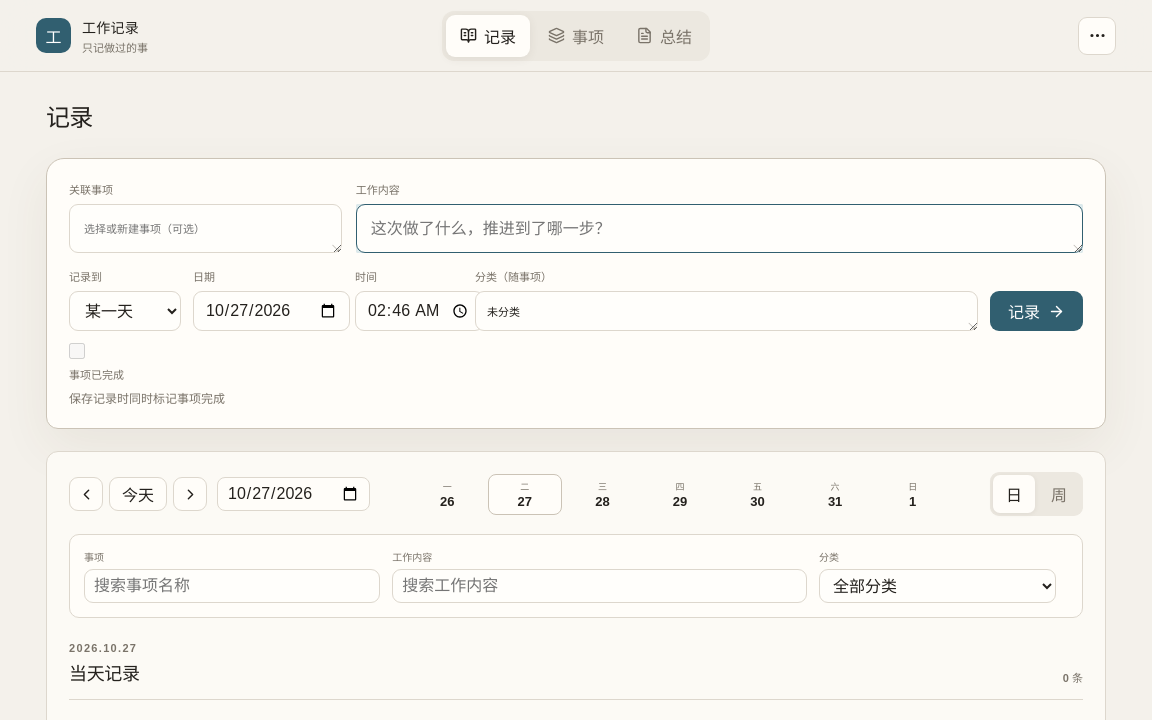
Test: application shell › opens category management from the existing overflow menu
What coordinates should you click on to do the following:
click the button named "更多操作"
I would click on:
 (1097, 36)
Its box is [1078,16,1116,54].
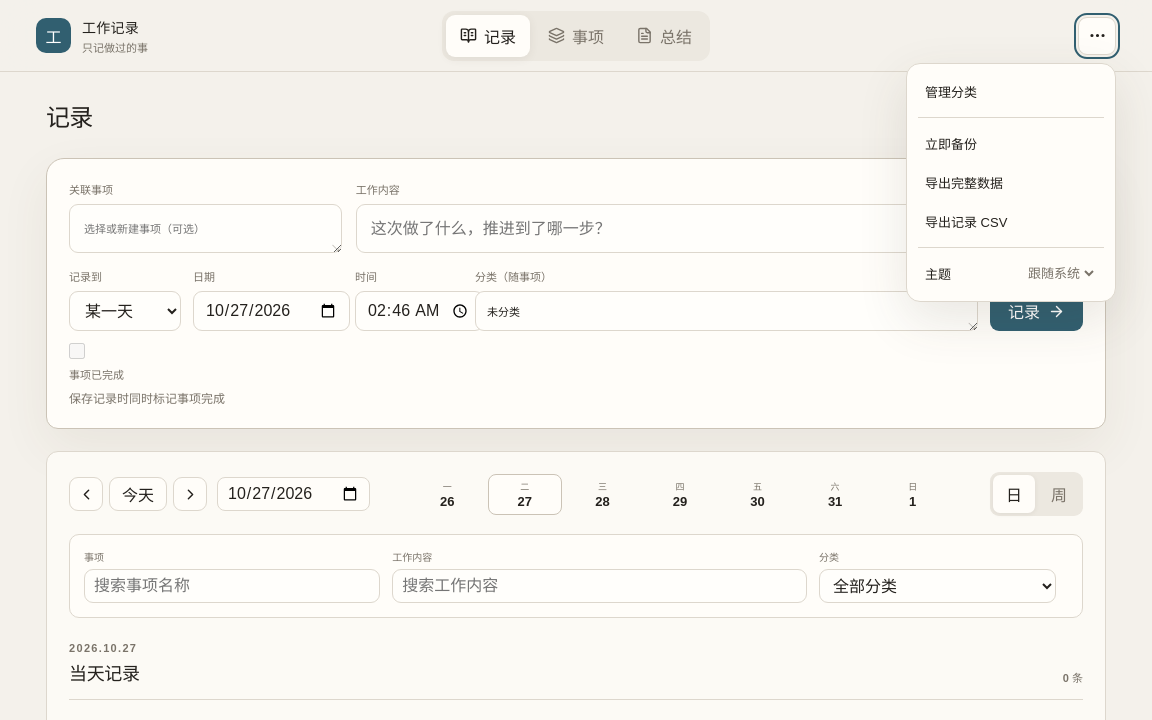
Expected: the button "导出记录 CSV" is shown, [915,202,1107,240]
What coordinates should you click on to do the following:
click the button "管理分类"
I would click on:
 (1011, 91)
Its box is [915,72,1107,110].
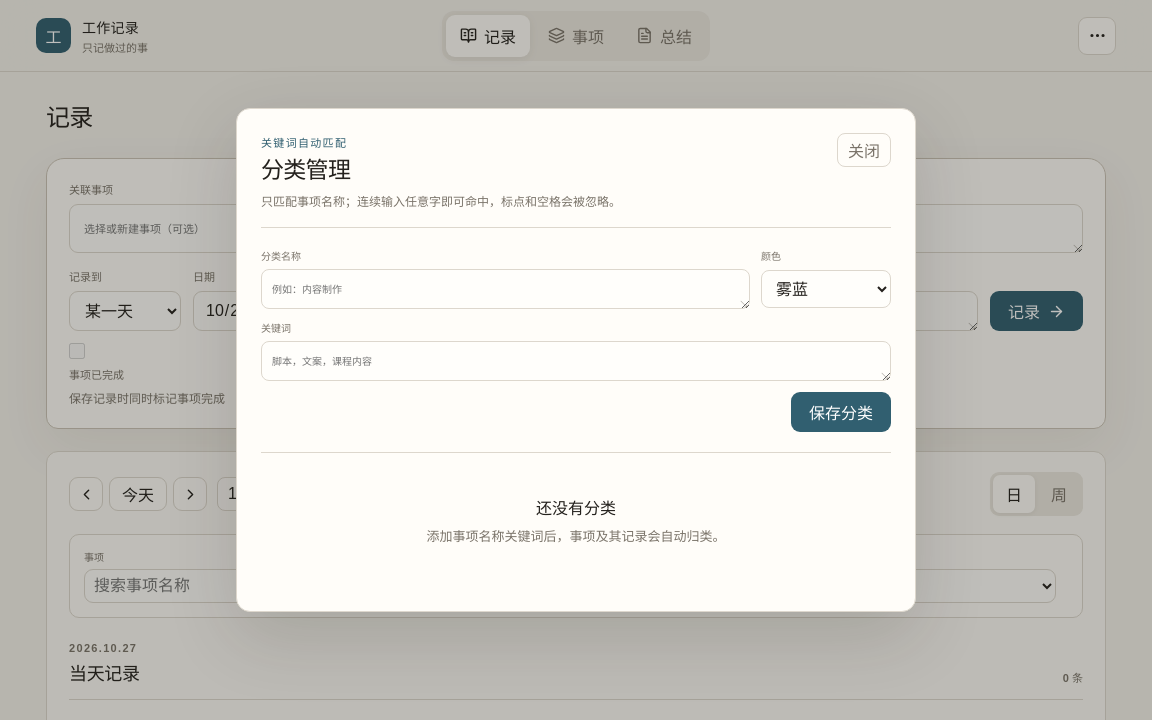
Expected: the dialog "分类管理" is shown, [236,108,916,612]
